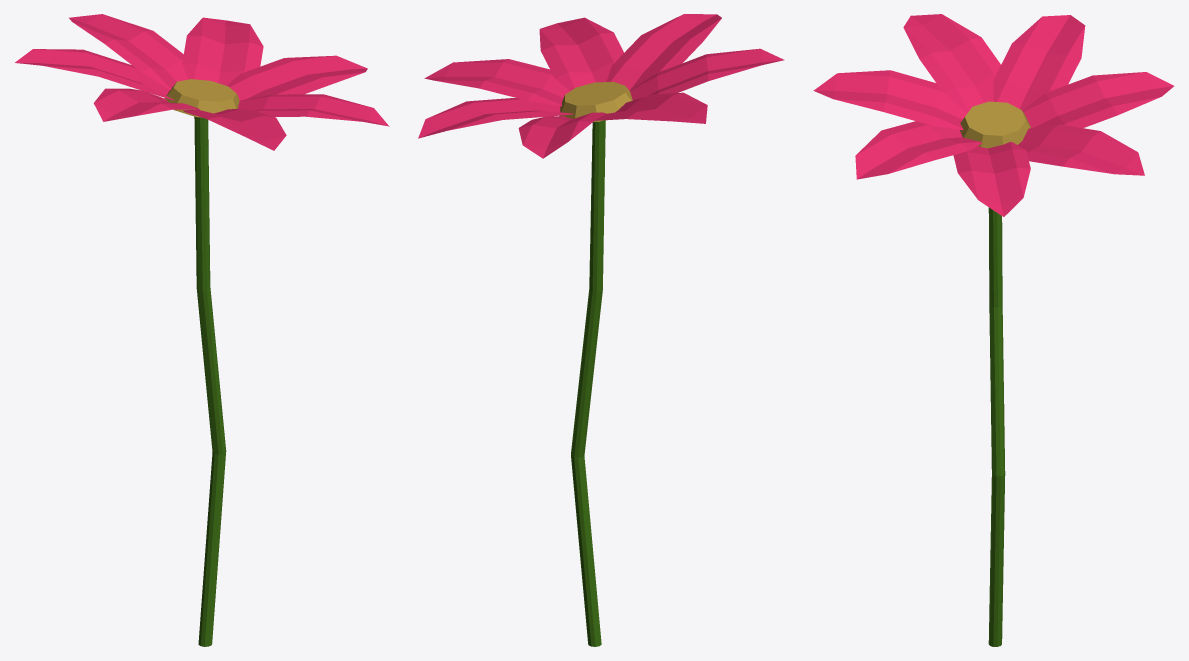
Rendered from Pink flower.fbx.
3 renders of one model, left to right at view 1: azimuth 30°, elevation 25°; view 2: azimuth 150°, elevation 25°; view 3: azimuth 270°, elevation 25°, orthographic. The views are drawn at different scales.
Parts seen in each view (by area): view 1: Circle.008, Circle.009; view 2: Circle.008, Circle.009; view 3: Circle.008, Circle.009.
Part boxes in pixels (<box>): Circle.008: <box>15,14,389,150</box>; Circle.009: <box>164,79,239,646</box>; Circle.008: <box>418,14,784,158</box>; Circle.009: <box>559,81,632,646</box>; Circle.008: <box>813,14,1173,216</box>; Circle.009: <box>960,101,1030,646</box>.
Size of the model in its own units: 19.23 by 34.36 by 19.89.
